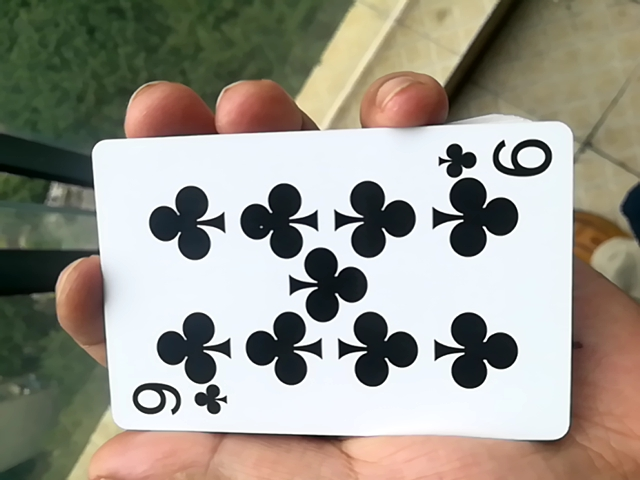mh 9: (86, 123, 566, 448)
